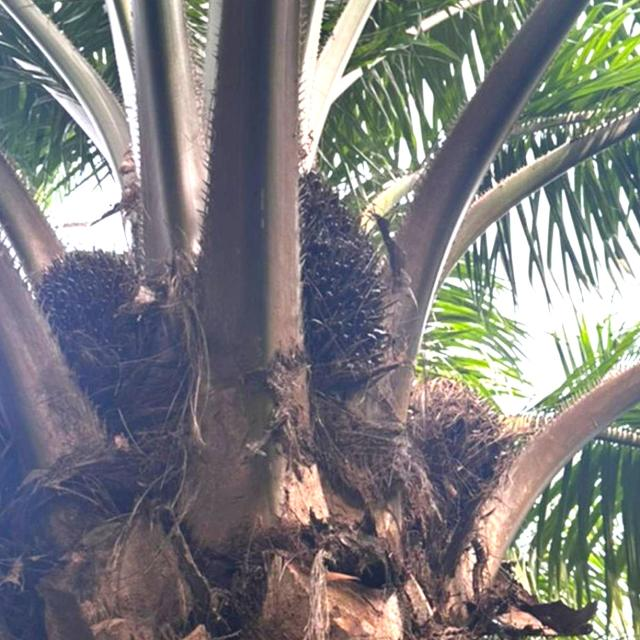almost: (273, 161, 412, 398), (36, 244, 175, 413), (390, 374, 524, 518)
